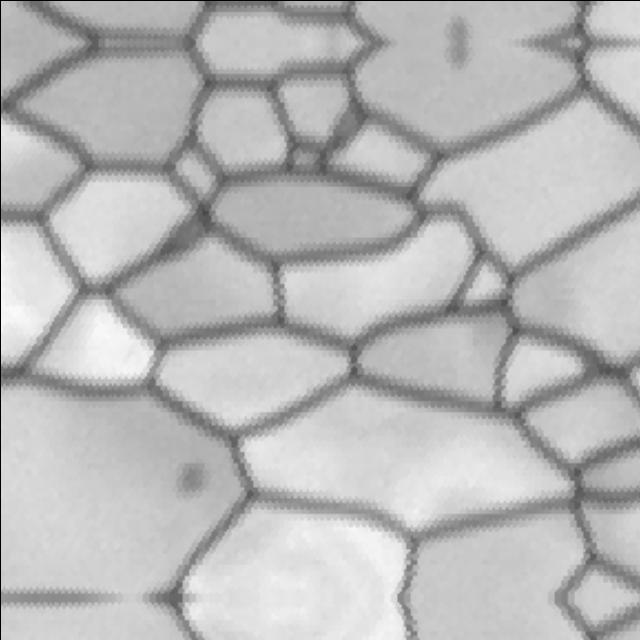good_void: (163, 443, 215, 508), (440, 42, 481, 78), (440, 6, 481, 42)
